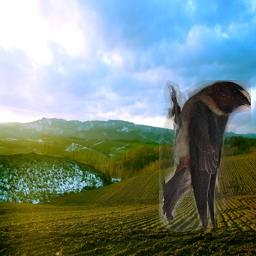Swallow: (159, 80, 251, 232)
